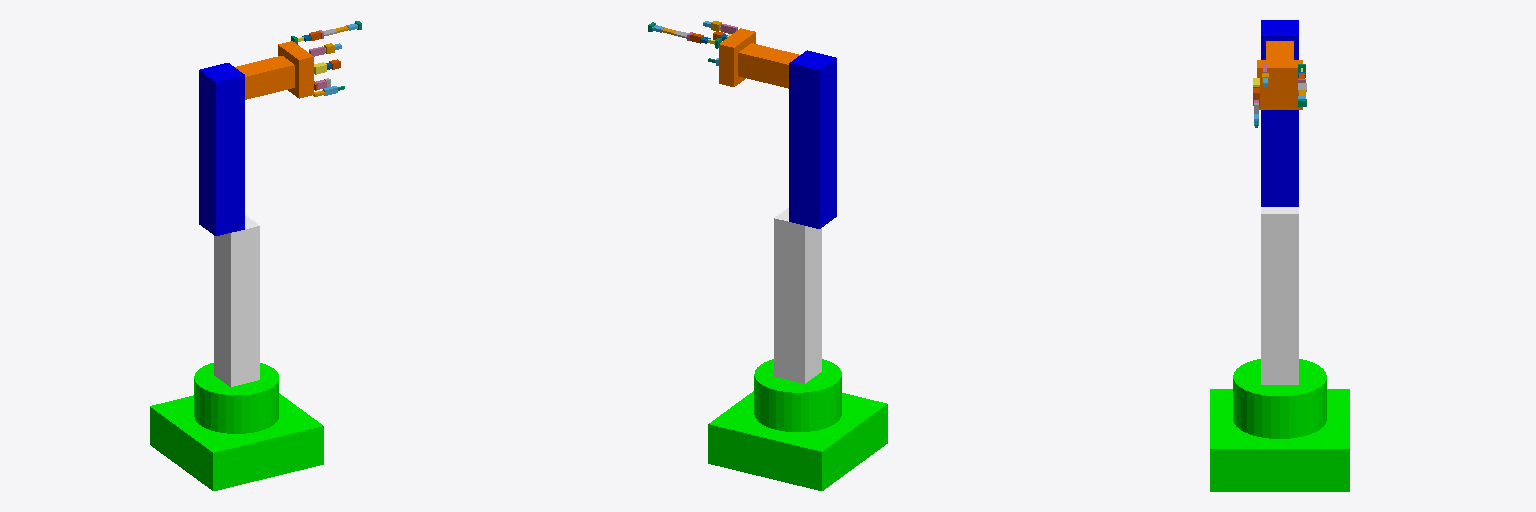
URDF robot description (robot):
<?xml version='1.0' encoding='utf-8'?>
<robot name="robot">
  <link name="base_link">
    <visual>
      <origin xyz="0 0 0.125" rpy="0 0 0" />
      <geometry>
        <box size="0.75 0.75 0.25" />
      </geometry>
      <material name="green" />
    </visual>
    <visual>
      <origin xyz="0 0 0.375" rpy="0 0 0" />
      <geometry>
        <cylinder length="0.25" radius="0.25" />
      </geometry>
      <material name="green">
        <color rgba="0 1 0 1" />
      </material>
    </visual>
    <collision>
      <geometry>
        <box size="0.75 0.75 0.5" />
      </geometry>
    </collision>
    <inertial>
      <mass value="0.5" />
      <inertia ixx="0.034" ixy="0.0" ixz="0.0" iyy="0.034" iyz="0.0" izz="0.034" />
    </inertial>
  </link>
  <link name="support_link">
    <visual>
      <origin xyz="0 0 0.5" rpy="0 0 0" />
      <geometry>
        <box size="0.2 0.2 1" />
      </geometry>
      <material name="white">
        <color rgba="1 1 1 1" />
      </material>
    </visual>
    <collision>
      <geometry>
        <box size="0.2 0.2 1" />
      </geometry>
    </collision>
    <inertial>
      <mass value="0.1" />
      <inertia ixx="0.01" ixy="0.0" ixz="0.0" iyy="0.01" iyz="0.0" izz="0.01" />
    </inertial>
  </link>
  <joint name="support_joint" type="continuous">
    <origin xyz="0 0 0.5" rpy="0 0 0" />
    <parent link="base_link" />
    <child link="support_link" />
    <axis xyz="0 0 1" />
  </joint>
  <link name="arm_link">
    <visual>
      <origin xyz="0 0 0.5" rpy="0 0 0" />
      <geometry>
        <box size="0.2 0.2 1" />
      </geometry>
      <material name="blue">
        <color rgba="0 0 1 1" />
      </material>
    </visual>
    <collision>
      <geometry>
        <box size="0.2 0.2 1" />
      </geometry>
    </collision>
    <inertial>
      <mass value="0.1" />
      <inertia ixx="0.01" ixy="0.0" ixz="0.0" iyy="0.01" iyz="0.0" izz="0.01" />
    </inertial>
  </link>
  <joint name="arm_joint" type="revolute">
    <origin xyz="-0.1 0 1" rpy="0 0 0" />
    <parent link="support_link" />
    <child link="arm_link" />
    <axis xyz="0 1 0" />
    <limit lower="-3.14" upper="3.14" effort="1.0" velocity="1.0" />
  </joint>
  <link name="wrist_link">
    <visual>
      <origin xyz="0 0 0.25" rpy="0 0 0" />
      <geometry>
        <box size="0.15 0.15 0.5" />
      </geometry>
      <material name="orange">
        <color rgba="1 0.5 0 1" />
      </material>
    </visual>
    <collision>
      <geometry>
        <box size="0.15 0.15 0.5" />
      </geometry>
    </collision>
    <inertial>
      <mass value="0.1" />
      <inertia ixx="0.01" ixy="0.0" ixz="0.0" iyy="0.01" iyz="0.0" izz="0.01" />
    </inertial>
  </link>
  <joint name="wrist_joint" type="fixed">
    <origin xyz="0 0 0.9" rpy="0 1.571 0" />
    <parent link="arm_link" />
    <child link="wrist_link" />
  </joint>
  <link name="palm_link">
    <visual>
      <origin xyz="0 0 0.05" rpy="0 0 0" />
      <geometry>
        <box size="0.25 0.25 0.1" />
      </geometry>
      <material name="orange" />
    </visual>
    <collision>
      <geometry>
        <box size="0.25 0.25 0.1" />
      </geometry>
    </collision>
    <inertial>
      <mass value="0.1" />
      <inertia ixx="0.01" ixy="0.0" ixz="0.0" iyy="0.01" iyz="0.0" izz="0.01" />
    </inertial>
  </link>
  <joint name="palm_joint" type="fixed">
    <origin xyz="0 0 0.45" rpy="0 0 0" />
    <parent link="wrist_link" />
    <child link="palm_link" />
  </joint>
  <link name="finger_link_0_0">
    <visual>
      <origin xyz="0 0 0.009" rpy="0 0 0" />
      <geometry>
        <box size="0.041 0.041 0.018" />
      </geometry>
    </visual>
    <collision>
      <geometry>
        <box size="0.041 0.041 0.018" />
      </geometry>
    </collision>
    <inertial>
      <mass value="0.009" />
      <inertia ixx="0.0" iyy="0.0" izz="0.0" ixy="0" ixz="0" iyz="0" />
    </inertial>
  </link>
  <joint name="finger_joint_palm_link_to_finger_link_0_0" type="revolute">
    <origin xyz="0.069 -0.125 0.1" rpy="0 0 0" />
    <parent link="palm_link" />
    <child link="finger_link_0_0" />
    <axis xyz="1.0 0.0 0.0" />
    <limit lower="-3.142" upper="3.142" effort="10" velocity="10" />
  </joint>
  <link name="finger_link_0_1">
    <visual>
      <origin xyz="0 0 0.03" rpy="0 0 0" />
      <geometry>
        <box size="0.043 0.03 0.06" />
      </geometry>
    </visual>
    <collision>
      <geometry>
        <box size="0.043 0.03 0.06" />
      </geometry>
    </collision>
    <inertial>
      <mass value="0.023" />
      <inertia ixx="0.0" iyy="0.0" izz="0.0" ixy="0" ixz="0" iyz="0" />
    </inertial>
  </link>
  <joint name="finger_joint_finger_link_0_0_to_finger_link_0_1" type="revolute">
    <origin xyz="0.0 0.0 0.018" rpy="0 0 0" />
    <parent link="finger_link_0_0" />
    <child link="finger_link_0_1" />
    <axis xyz="1.0 0.0 0.0" />
    <limit lower="-3.142" upper="3.142" effort="10" velocity="10" />
  </joint>
  <link name="finger_link_0_2">
    <visual>
      <origin xyz="0 0 0.015" rpy="0 0 0" />
      <geometry>
        <box size="0.049 0.024 0.03" />
      </geometry>
    </visual>
    <collision>
      <geometry>
        <box size="0.049 0.024 0.03" />
      </geometry>
    </collision>
    <inertial>
      <mass value="0.011" />
      <inertia ixx="0.0" iyy="0.0" izz="0.0" ixy="0" ixz="0" iyz="0" />
    </inertial>
  </link>
  <joint name="finger_joint_finger_link_0_1_to_finger_link_0_2" type="revolute">
    <origin xyz="0.0 0.0 0.06" rpy="0 0 0" />
    <parent link="finger_link_0_1" />
    <child link="finger_link_0_2" />
    <axis xyz="1.0 0.0 0.0" />
    <limit lower="-3.142" upper="3.142" effort="10" velocity="10" />
  </joint>
  <link name="finger_link_1_0">
    <visual>
      <origin xyz="0 0 0.035" rpy="0 0 0" />
      <geometry>
        <box size="0.015 0.031 0.07" />
      </geometry>
    </visual>
    <collision>
      <geometry>
        <box size="0.015 0.031 0.07" />
      </geometry>
    </collision>
    <inertial>
      <mass value="0.01" />
      <inertia ixx="0.0" iyy="0.0" izz="0.0" ixy="0" ixz="0" iyz="0" />
    </inertial>
  </link>
  <joint name="finger_joint_palm_link_to_finger_link_1_0" type="revolute">
    <origin xyz="0.124 -0.125 0.1" rpy="0 0 0" />
    <parent link="palm_link" />
    <child link="finger_link_1_0" />
    <axis xyz="1.0 0.0 0.0" />
    <limit lower="-3.142" upper="3.142" effort="10" velocity="10" />
  </joint>
  <link name="finger_link_1_1">
    <visual>
      <origin xyz="0 0 0.0435" rpy="0 0 0" />
      <geometry>
        <box size="0.038 0.025 0.087" />
      </geometry>
    </visual>
    <collision>
      <geometry>
        <box size="0.038 0.025 0.087" />
      </geometry>
    </collision>
    <inertial>
      <mass value="0.025" />
      <inertia ixx="0.0" iyy="0.0" izz="0.0" ixy="0" ixz="0" iyz="0" />
    </inertial>
  </link>
  <joint name="finger_joint_finger_link_1_0_to_finger_link_1_1" type="revolute">
    <origin xyz="0.0 0.0 0.07" rpy="0 0 0" />
    <parent link="finger_link_1_0" />
    <child link="finger_link_1_1" />
    <axis xyz="0.0 1.0 0.0" />
    <limit lower="-3.142" upper="3.142" effort="10" velocity="10" />
  </joint>
  <link name="finger_link_1_2">
    <visual>
      <origin xyz="0 0 0.0265" rpy="0 0 0" />
      <geometry>
        <box size="0.018 0.012 0.053" />
      </geometry>
    </visual>
    <collision>
      <geometry>
        <box size="0.018 0.012 0.053" />
      </geometry>
    </collision>
    <inertial>
      <mass value="0.003" />
      <inertia ixx="0.0" iyy="0.0" izz="0.0" ixy="0" ixz="0" iyz="0" />
    </inertial>
  </link>
  <joint name="finger_joint_finger_link_1_1_to_finger_link_1_2" type="revolute">
    <origin xyz="0.0 0.0 0.087" rpy="0 0 0" />
    <parent link="finger_link_1_1" />
    <child link="finger_link_1_2" />
    <axis xyz="1.0 0.0 0.0" />
    <limit lower="-3.142" upper="3.142" effort="10" velocity="10" />
  </joint>
  <link name="finger_link_2_0">
    <visual>
      <origin xyz="0 0 0.04" rpy="0 0 0" />
      <geometry>
        <box size="0.047 0.042 0.08" />
      </geometry>
    </visual>
    <collision>
      <geometry>
        <box size="0.047 0.042 0.08" />
      </geometry>
    </collision>
    <inertial>
      <mass value="0.047" />
      <inertia ixx="0.0" iyy="0.0" izz="0.0" ixy="0" ixz="0" iyz="0" />
    </inertial>
  </link>
  <joint name="finger_joint_palm_link_to_finger_link_2_0" type="revolute">
    <origin xyz="-0.039 -0.125 0.1" rpy="0 0 0" />
    <parent link="palm_link" />
    <child link="finger_link_2_0" />
    <axis xyz="1.0 0.0 0.0" />
    <limit lower="-3.142" upper="3.142" effort="10" velocity="10" />
  </joint>
  <link name="finger_link_2_1">
    <visual>
      <origin xyz="0 0 0.018" rpy="0 0 0" />
      <geometry>
        <box size="0.027 0.036 0.036" />
      </geometry>
    </visual>
    <collision>
      <geometry>
        <box size="0.027 0.036 0.036" />
      </geometry>
    </collision>
    <inertial>
      <mass value="0.01" />
      <inertia ixx="0.0" iyy="0.0" izz="0.0" ixy="0" ixz="0" iyz="0" />
    </inertial>
  </link>
  <joint name="finger_joint_finger_link_2_0_to_finger_link_2_1" type="revolute">
    <origin xyz="0.0 0.0 0.08" rpy="0 0 0" />
    <parent link="finger_link_2_0" />
    <child link="finger_link_2_1" />
    <axis xyz="1.0 0.0 0.0" />
    <limit lower="-3.142" upper="3.142" effort="10" velocity="10" />
  </joint>
  <link name="finger_link_2_2">
    <visual>
      <origin xyz="0 0 0.028" rpy="0 0 0" />
      <geometry>
        <box size="0.041 0.039 0.056" />
      </geometry>
    </visual>
    <collision>
      <geometry>
        <box size="0.041 0.039 0.056" />
      </geometry>
    </collision>
    <inertial>
      <mass value="0.027" />
      <inertia ixx="0.0" iyy="0.0" izz="0.0" ixy="0" ixz="0" iyz="0" />
    </inertial>
  </link>
  <joint name="finger_joint_finger_link_2_1_to_finger_link_2_2" type="revolute">
    <origin xyz="0.0 0.0 0.036" rpy="0 0 0" />
    <parent link="finger_link_2_1" />
    <child link="finger_link_2_2" />
    <axis xyz="1.0 0.0 0.0" />
    <limit lower="-3.142" upper="3.142" effort="10" velocity="10" />
  </joint>
  <link name="finger_link_3_0">
    <visual>
      <origin xyz="0 0 0.0475" rpy="0 0 0" />
      <geometry>
        <box size="0.044 0.02 0.095" />
      </geometry>
    </visual>
    <collision>
      <geometry>
        <box size="0.044 0.02 0.095" />
      </geometry>
    </collision>
    <inertial>
      <mass value="0.025" />
      <inertia ixx="0.0" iyy="0.0" izz="0.0" ixy="0" ixz="0" iyz="0" />
    </inertial>
  </link>
  <joint name="finger_joint_palm_link_to_finger_link_3_0" type="revolute">
    <origin xyz="-0.125 -0.078 0.1" rpy="0 0 0" />
    <parent link="palm_link" />
    <child link="finger_link_3_0" />
    <axis xyz="0.0 -1.0 0.0" />
    <limit lower="-3.142" upper="3.142" effort="10" velocity="10" />
  </joint>
  <link name="finger_link_3_1">
    <visual>
      <origin xyz="0 0 0.0065" rpy="0 0 0" />
      <geometry>
        <box size="0.016 0.014 0.013" />
      </geometry>
    </visual>
    <collision>
      <geometry>
        <box size="0.016 0.014 0.013" />
      </geometry>
    </collision>
    <inertial>
      <mass value="0.001" />
      <inertia ixx="0.0" iyy="0.0" izz="0.0" ixy="0" ixz="0" iyz="0" />
    </inertial>
  </link>
  <joint name="finger_joint_finger_link_3_0_to_finger_link_3_1" type="revolute">
    <origin xyz="0.0 0.0 0.095" rpy="0 0 0" />
    <parent link="finger_link_3_0" />
    <child link="finger_link_3_1" />
    <axis xyz="1.0 0.0 0.0" />
    <limit lower="-3.142" upper="3.142" effort="10" velocity="10" />
  </joint>
  <link name="finger_link_3_2">
    <visual>
      <origin xyz="0 0 0.025" rpy="0 0 0" />
      <geometry>
        <box size="0.045 0.039 0.05" />
      </geometry>
    </visual>
    <collision>
      <geometry>
        <box size="0.045 0.039 0.05" />
      </geometry>
    </collision>
    <inertial>
      <mass value="0.026" />
      <inertia ixx="0.0" iyy="0.0" izz="0.0" ixy="0" ixz="0" iyz="0" />
    </inertial>
  </link>
  <joint name="finger_joint_finger_link_3_1_to_finger_link_3_2" type="revolute">
    <origin xyz="0.0 0.0 0.013" rpy="0 0 0" />
    <parent link="finger_link_3_1" />
    <child link="finger_link_3_2" />
    <axis xyz="1.0 1.0 0.0" />
    <limit lower="-3.142" upper="3.142" effort="10" velocity="10" />
  </joint>
  <link name="finger_link_3_3">
    <visual>
      <origin xyz="0 0 0.027" rpy="0 0 0" />
      <geometry>
        <box size="0.022 0.029 0.054" />
      </geometry>
    </visual>
    <collision>
      <geometry>
        <box size="0.022 0.029 0.054" />
      </geometry>
    </collision>
    <inertial>
      <mass value="0.01" />
      <inertia ixx="0.0" iyy="0.0" izz="0.0" ixy="0" ixz="0" iyz="0" />
    </inertial>
  </link>
  <joint name="finger_joint_finger_link_3_2_to_finger_link_3_3" type="revolute">
    <origin xyz="0.0 0.0 0.05" rpy="0 0 0" />
    <parent link="finger_link_3_2" />
    <child link="finger_link_3_3" />
    <axis xyz="0.0 1.0 0.0" />
    <limit lower="-3.142" upper="3.142" effort="10" velocity="10" />
  </joint>
  <link name="finger_link_4_0">
    <visual>
      <origin xyz="0 0 0.0095" rpy="0 0 0" />
      <geometry>
        <box size="0.049 0.042 0.019" />
      </geometry>
    </visual>
    <collision>
      <geometry>
        <box size="0.049 0.042 0.019" />
      </geometry>
    </collision>
    <inertial>
      <mass value="0.012" />
      <inertia ixx="0.0" iyy="0.0" izz="0.0" ixy="0" ixz="0" iyz="0" />
    </inertial>
  </link>
  <joint name="finger_joint_palm_link_to_finger_link_4_0" type="revolute">
    <origin xyz="-0.125 0.118 0.1" rpy="0 0 0" />
    <parent link="palm_link" />
    <child link="finger_link_4_0" />
    <axis xyz="0.0 -1.0 0.0" />
    <limit lower="-3.142" upper="3.142" effort="10" velocity="10" />
  </joint>
  <link name="finger_link_4_1">
    <visual>
      <origin xyz="0 0 0.0265" rpy="0 0 0" />
      <geometry>
        <box size="0.021 0.011 0.053" />
      </geometry>
    </visual>
    <collision>
      <geometry>
        <box size="0.021 0.011 0.053" />
      </geometry>
    </collision>
    <inertial>
      <mass value="0.004" />
      <inertia ixx="0.0" iyy="0.0" izz="0.0" ixy="0" ixz="0" iyz="0" />
    </inertial>
  </link>
  <joint name="finger_joint_finger_link_4_0_to_finger_link_4_1" type="revolute">
    <origin xyz="0.0 0.0 0.019" rpy="0 0 0" />
    <parent link="finger_link_4_0" />
    <child link="finger_link_4_1" />
    <axis xyz="0.0 1.0 0.0" />
    <limit lower="-3.142" upper="3.142" effort="10" velocity="10" />
  </joint>
  <link name="finger_link_4_2">
    <visual>
      <origin xyz="0 0 0.021" rpy="0 0 0" />
      <geometry>
        <box size="0.019 0.044 0.042" />
      </geometry>
    </visual>
    <collision>
      <geometry>
        <box size="0.019 0.044 0.042" />
      </geometry>
    </collision>
    <inertial>
      <mass value="0.011" />
      <inertia ixx="0.0" iyy="0.0" izz="0.0" ixy="0" ixz="0" iyz="0" />
    </inertial>
  </link>
  <joint name="finger_joint_finger_link_4_1_to_finger_link_4_2" type="revolute">
    <origin xyz="0.0 0.0 0.053" rpy="0 0 0" />
    <parent link="finger_link_4_1" />
    <child link="finger_link_4_2" />
    <axis xyz="0.0 1.0 0.0" />
    <limit lower="-3.142" upper="3.142" effort="10" velocity="10" />
  </joint>
  <link name="finger_link_4_3">
    <visual>
      <origin xyz="0 0 0.0345" rpy="0 0 0" />
      <geometry>
        <box size="0.041 0.031 0.069" />
      </geometry>
    </visual>
    <collision>
      <geometry>
        <box size="0.041 0.031 0.069" />
      </geometry>
    </collision>
    <inertial>
      <mass value="0.026" />
      <inertia ixx="0.0" iyy="0.0" izz="0.0" ixy="0" ixz="0" iyz="0" />
    </inertial>
  </link>
  <joint name="finger_joint_finger_link_4_2_to_finger_link_4_3" type="revolute">
    <origin xyz="0.0 0.0 0.042" rpy="0 0 0" />
    <parent link="finger_link_4_2" />
    <child link="finger_link_4_3" />
    <axis xyz="1.0 1.0 0.0" />
    <limit lower="-3.142" upper="3.142" effort="10" velocity="10" />
  </joint>
  <link name="finger_link_4_4">
    <visual>
      <origin xyz="0 0 0.0085" rpy="0 0 0" />
      <geometry>
        <box size="0.038 0.042 0.017" />
      </geometry>
    </visual>
    <collision>
      <geometry>
        <box size="0.038 0.042 0.017" />
      </geometry>
    </collision>
    <inertial>
      <mass value="0.008" />
      <inertia ixx="0.0" iyy="0.0" izz="0.0" ixy="0" ixz="0" iyz="0" />
    </inertial>
  </link>
  <joint name="finger_joint_finger_link_4_3_to_finger_link_4_4" type="revolute">
    <origin xyz="0.0 0.0 0.069" rpy="0 0 0" />
    <parent link="finger_link_4_3" />
    <child link="finger_link_4_4" />
    <axis xyz="0.0 1.0 0.0" />
    <limit lower="-3.142" upper="3.142" effort="10" velocity="10" />
  </joint>
  <link name="finger_link_4_5">
    <visual>
      <origin xyz="0 0 0.044" rpy="0 0 0" />
      <geometry>
        <box size="0.011 0.048 0.088" />
      </geometry>
    </visual>
    <collision>
      <geometry>
        <box size="0.011 0.048 0.088" />
      </geometry>
    </collision>
    <inertial>
      <mass value="0.014" />
      <inertia ixx="0.0" iyy="0.0" izz="0.0" ixy="0" ixz="0" iyz="0" />
    </inertial>
  </link>
  <joint name="finger_joint_finger_link_4_4_to_finger_link_4_5" type="revolute">
    <origin xyz="0.0 0.0 0.017" rpy="0 0 0" />
    <parent link="finger_link_4_4" />
    <child link="finger_link_4_5" />
    <axis xyz="1.0 0.0 0.0" />
    <limit lower="-3.142" upper="3.142" effort="10" velocity="10" />
  </joint>
  <link name="finger_link_4_6">
    <visual>
      <origin xyz="0 0 0.0415" rpy="0 0 0" />
      <geometry>
        <box size="0.013 0.037 0.083" />
      </geometry>
    </visual>
    <collision>
      <geometry>
        <box size="0.013 0.037 0.083" />
      </geometry>
    </collision>
    <inertial>
      <mass value="0.012" />
      <inertia ixx="0.0" iyy="0.0" izz="0.0" ixy="0" ixz="0" iyz="0" />
    </inertial>
  </link>
  <joint name="finger_joint_finger_link_4_5_to_finger_link_4_6" type="revolute">
    <origin xyz="0.0 0.0 0.088" rpy="0 0 0" />
    <parent link="finger_link_4_5" />
    <child link="finger_link_4_6" />
    <axis xyz="1.0 1.0 0.0" />
    <limit lower="-3.142" upper="3.142" effort="10" velocity="10" />
  </joint>
  <link name="finger_link_4_7">
    <visual>
      <origin xyz="0 0 0.03" rpy="0 0 0" />
      <geometry>
        <box size="0.019 0.039 0.06" />
      </geometry>
    </visual>
    <collision>
      <geometry>
        <box size="0.019 0.039 0.06" />
      </geometry>
    </collision>
    <inertial>
      <mass value="0.013" />
      <inertia ixx="0.0" iyy="0.0" izz="0.0" ixy="0" ixz="0" iyz="0" />
    </inertial>
  </link>
  <joint name="finger_joint_finger_link_4_6_to_finger_link_4_7" type="revolute">
    <origin xyz="0.0 0.0 0.083" rpy="0 0 0" />
    <parent link="finger_link_4_6" />
    <child link="finger_link_4_7" />
    <axis xyz="0.0 1.0 0.0" />
    <limit lower="-3.142" upper="3.142" effort="10" velocity="10" />
  </joint>
  <link name="finger_link_4_8">
    <visual>
      <origin xyz="0 0 0.0125" rpy="0 0 0" />
      <geometry>
        <box size="0.039 0.049 0.025" />
      </geometry>
    </visual>
    <collision>
      <geometry>
        <box size="0.039 0.049 0.025" />
      </geometry>
    </collision>
    <inertial>
      <mass value="0.014" />
      <inertia ixx="0.0" iyy="0.0" izz="0.0" ixy="0" ixz="0" iyz="0" />
    </inertial>
  </link>
  <joint name="finger_joint_finger_link_4_7_to_finger_link_4_8" type="revolute">
    <origin xyz="0.0 0.0 0.06" rpy="0 0 0" />
    <parent link="finger_link_4_7" />
    <child link="finger_link_4_8" />
    <axis xyz="1.0 1.0 0.0" />
    <limit lower="-3.142" upper="3.142" effort="10" velocity="10" />
  </joint>
</robot>

--- Facts derived from the render (not from the file) ---
Views: 3 orthographic renders of the robot side by side, from view 1: azimuth 30°, elevation 25°; view 2: azimuth 150°, elevation 25°; view 3: azimuth 270°, elevation 25°.
Model robot with 27 links and 26 joints (23 revolute, 1 continuous, 2 fixed), rooted at base_link, posed all joints at 0.
Links seen in each view (by area): view 1: base_link, arm_link, support_link, wrist_link, palm_link; view 2: base_link, arm_link, support_link, wrist_link, palm_link; view 3: base_link, support_link, arm_link, palm_link, wrist_link.
Boxes of the visible links, <box> form: base_link: <box>150,363,323,490</box>; arm_link: <box>199,63,244,235</box>; support_link: <box>214,215,259,386</box>; wrist_link: <box>235,56,294,99</box>; palm_link: <box>278,41,313,98</box>; base_link: <box>708,359,887,490</box>; arm_link: <box>789,50,836,228</box>; support_link: <box>774,208,821,383</box>; wrist_link: <box>738,43,799,88</box>; palm_link: <box>719,28,755,86</box>; base_link: <box>1210,359,1349,491</box>; support_link: <box>1261,207,1298,384</box>; arm_link: <box>1261,20,1298,206</box>; palm_link: <box>1257,60,1302,109</box>; wrist_link: <box>1266,41,1293,59</box>.
Bounding box of the posed robot: 1.28 × 0.75 × 2.55 m (x, y, z).
Geometry: primitives only (box / cylinder / sphere), no mesh files.